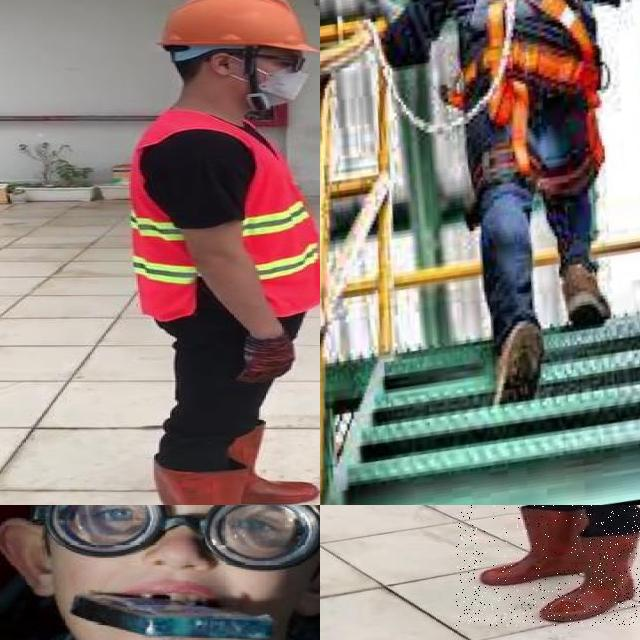Harness: (449, 0, 609, 173)
No_Ear-Protection: (0, 509, 60, 603), (299, 538, 320, 621)
boots: (542, 530, 638, 623), (477, 508, 589, 587), (225, 425, 320, 505), (152, 457, 310, 505)
face_mask: (242, 46, 320, 110)
face_nomask: (91, 505, 280, 625)
glasses: (20, 505, 320, 561)
hand_glove: (236, 334, 296, 383)
head_helmet: (157, 0, 306, 54)
person: (117, 0, 320, 505), (0, 505, 320, 640), (456, 505, 640, 626)
vest: (130, 114, 320, 320)
